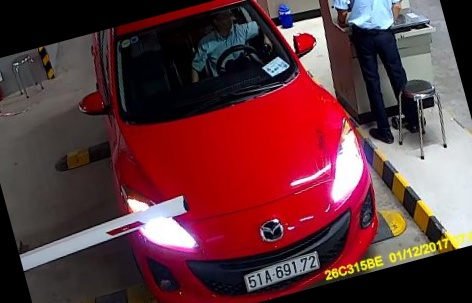plate: (238, 241, 320, 292)
